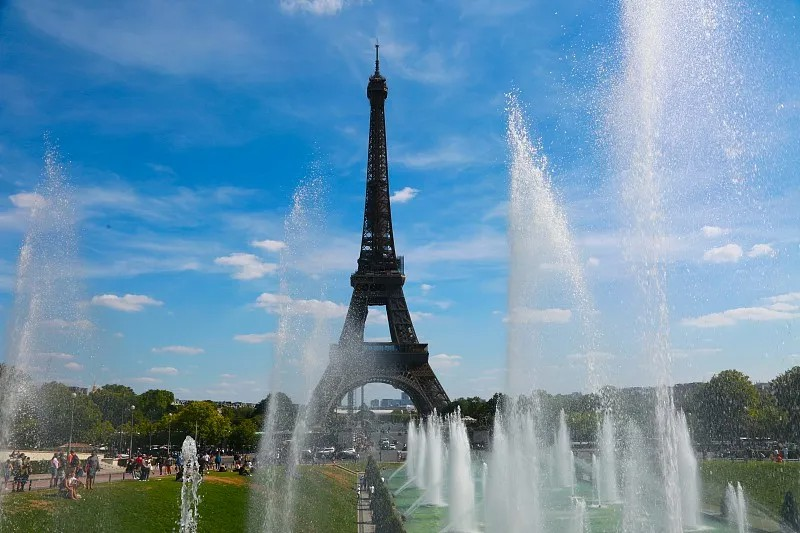Eiffel: (302, 37, 451, 425)
